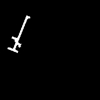double_crochet: (8, 16, 29, 52)
